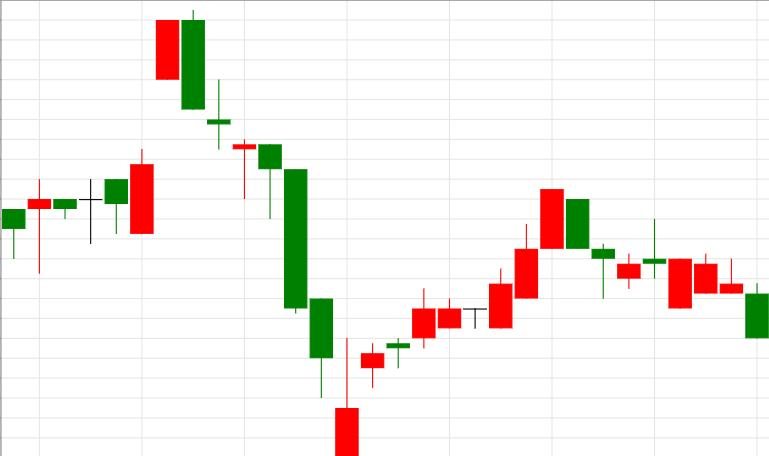inverse_hammer_rise: (181, 9, 359, 456)
